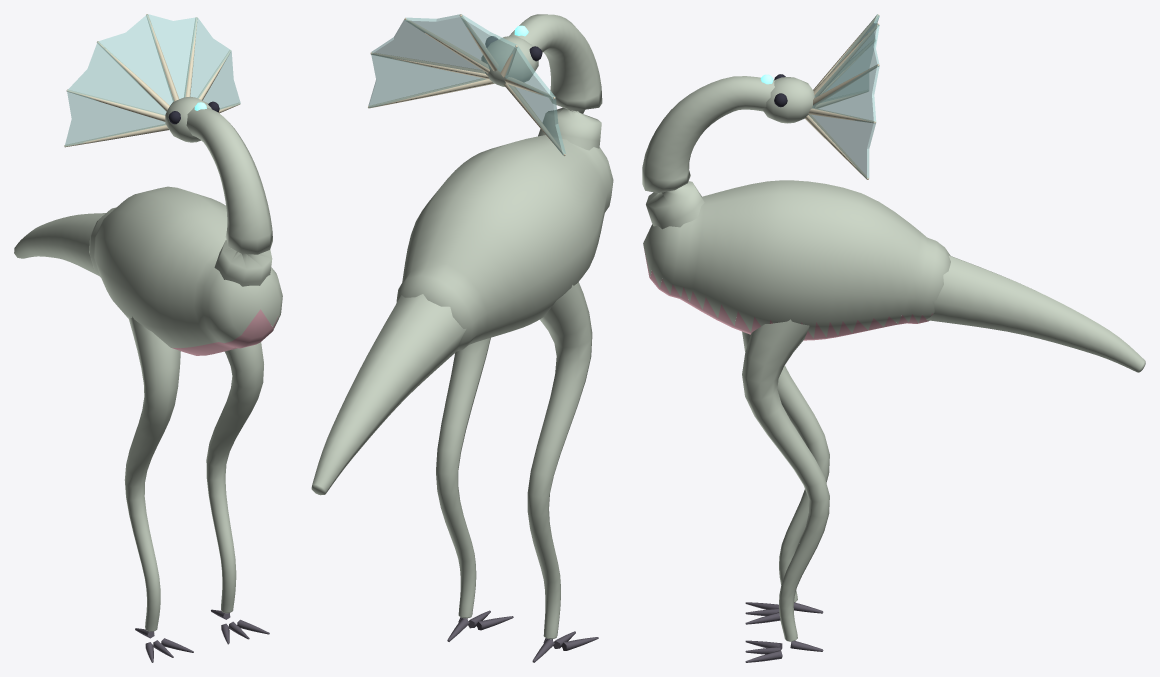
Rendered from xeno-species-and-alien-creatures-filter-feeding-wader-25bef35f__21121.glb.
The picture shows the model from 3 angles, left to right: view 1: azimuth 30°, elevation 25°; view 2: azimuth 150°, elevation 25°; view 3: azimuth 270°, elevation 25°; orthographic projection. The views are drawn at different scales.
Parts seen in each view (by area): view 1: filter-feeding-wader; view 2: filter-feeding-wader; view 3: filter-feeding-wader.
Part boxes in pixels (<box>): filter-feeding-wader: <box>14,14,282,662</box>; filter-feeding-wader: <box>311,14,613,662</box>; filter-feeding-wader: <box>642,14,1145,662</box>.
Bounding box in the file's own units: 1.21 × 3.87 × 2.89.
